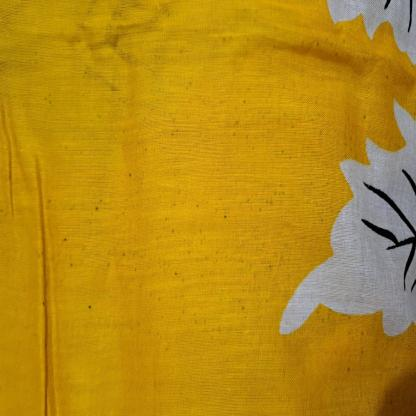spot: (106, 242, 144, 274), (222, 31, 258, 55), (316, 33, 350, 57), (248, 193, 282, 213), (119, 191, 136, 217), (167, 112, 182, 140), (166, 216, 182, 242), (230, 112, 244, 141), (170, 262, 186, 287), (278, 147, 295, 170), (183, 72, 198, 98), (170, 186, 187, 208), (342, 310, 353, 343), (236, 298, 252, 320), (360, 325, 371, 356), (216, 203, 232, 223), (138, 143, 154, 161), (316, 206, 329, 228), (91, 195, 107, 212), (189, 310, 203, 328), (382, 62, 392, 86), (83, 300, 100, 314), (64, 257, 80, 271), (193, 198, 206, 215), (58, 228, 72, 243), (45, 194, 57, 210), (344, 361, 354, 379), (44, 90, 54, 107), (124, 168, 136, 182), (358, 109, 370, 123), (40, 295, 50, 309)
